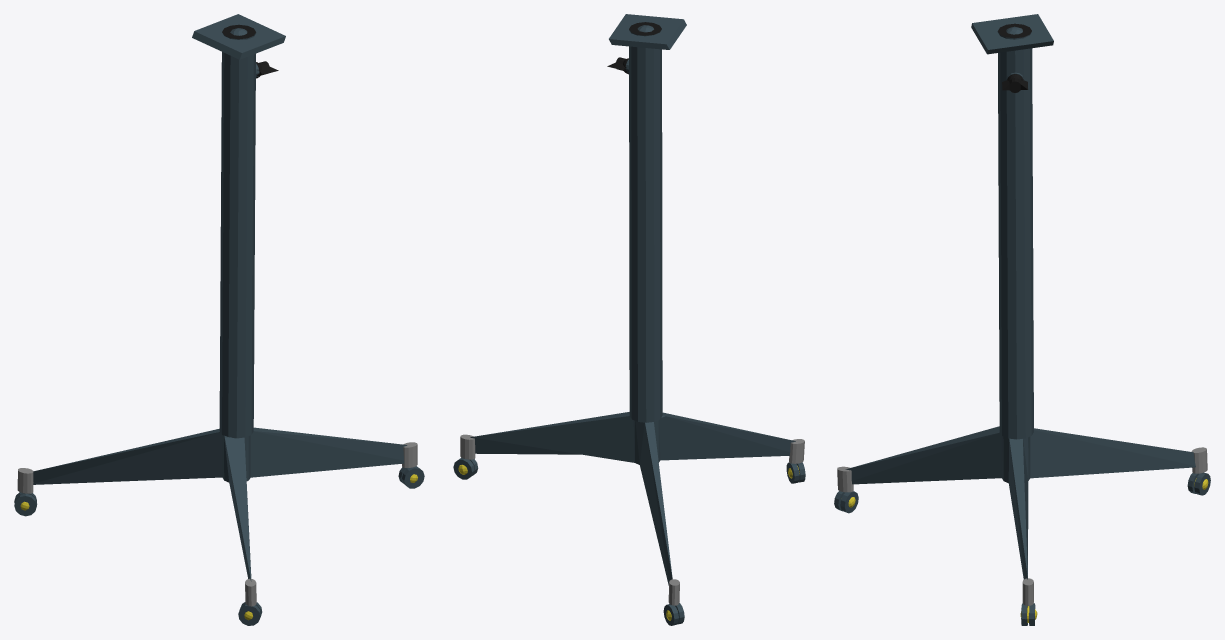
Rendered from lapak.glb.
The picture shows the model from 3 angles, left to right: view 1: azimuth 30°, elevation 25°; view 2: azimuth 150°, elevation 25°; view 3: azimuth 270°, elevation 25°; orthographic projection. The views are drawn at different scales.
Visible parts, largest first — view 1: geometry_0; view 2: geometry_0; view 3: geometry_0.
Part boxes in pixels (box(x1,y1,x2,y2)): geometry_0: box(14, 14, 424, 625); geometry_0: box(453, 14, 805, 625); geometry_0: box(834, 14, 1210, 625).
Bounding box in the file's own units: 0.6567 × 1.02 × 0.6621.
